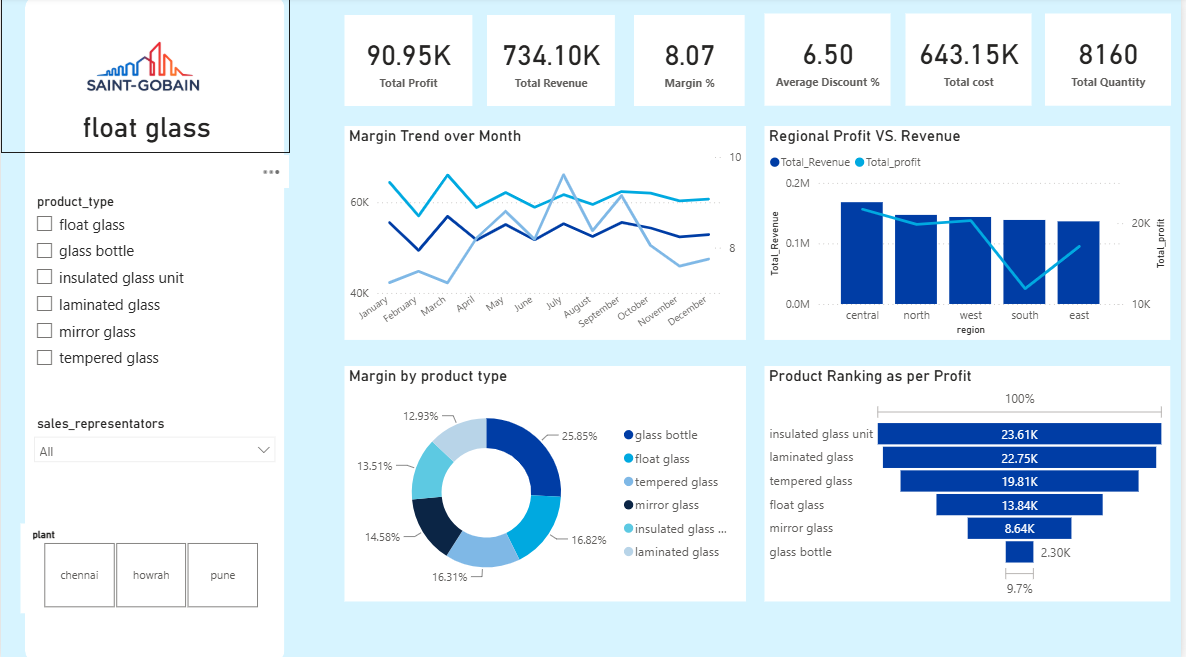

This screenshot's page, from the dashboard's own definition file:
{"tool":"powerbi","page":{"name":"Executive Overview","canvas":[1280,720],"ordinal":1},"visuals":[{"type":"shape","box":[26,0,281.4,720.6],"z":0},{"type":"image","box":[0,0,313.9,169.2],"z":1000},{"type":"card","fields":{"Values":["public order.Total_profit"]},"box":[371.7,20,138.3,98.3],"z":2000},{"type":"card","fields":{"Values":["public order.Total_Price"]},"box":[526.7,20,138.3,98.3],"z":3000},{"type":"card","fields":{"Values":["public order.Margin %"]},"box":[686.7,20,120,98.3],"z":4000},{"type":"card","fields":{"Values":["public order.Average_discount %"]},"box":[828.3,18.3,136.7,100],"z":5000},{"type":"lineChart","title":"Margin Trend over Month","fields":{"Category":["public order.order_date.Variation.Date Hierarchy.Month"],"Y":["public order.Total_cost","public order.Total_Revenue"],"Y2":["public order.Margin %"]},"box":[371.7,140,435,231.7],"z":6000},{"type":"donutChart","title":"Margin  by product type","fields":{"Category":["public order.product_type"],"Y":["public order.Margin %"]},"box":[371.7,400,435,255],"z":7000},{"type":"lineClusteredColumnComboChart","title":"Regional Profit VS. Revenue","fields":{"Category":["public order.region"],"Y":["public order.Total_Revenue"],"Y2":["public order.Total_profit"]},"box":[828.3,140,440,231.7],"z":8000},{"type":"funnel","title":"Product Ranking as per Profit","fields":{"Category":["public order.product_type"],"Y":["public order.Total_profit"]},"box":[828,400,440,255],"z":9000},{"type":"card","fields":{"Values":["public order.Total_cost"]},"box":[980,18.3,136.7,100],"z":10000},{"type":"card","fields":{"Values":["public order.Total_Quantity"]},"box":[1131.7,18.3,136.7,100],"z":11000},{"type":"slicer","fields":{"Values":["public order.product_type"]},"box":[26,208.2,276.5,224.5],"z":12000},{"type":"card","fields":{"Values":["Min(public order.product_type)"]},"box":[58.6,69.9,198.4,138.3],"z":13000},{"type":"slicer","fields":{"Values":["public order.plant"]},"box":[21.1,570.9,281.4,97.6],"z":14000},{"type":"slicer","fields":{"Values":["public order.sales_representators"]},"box":[26,448.9,281.4,78.1],"z":15000}]}

Visuals, with their boxes in screenshot pixels (x1, y1, x2, y2), scaled from the page's 1280x720 canvas onto the 1186x657 screenshot:
shape: rect(24, 0, 285, 656)
image: rect(0, 0, 291, 154)
card - public order.Total_profit: rect(344, 18, 473, 108)
card - public order.Total_Price: rect(488, 18, 616, 108)
card - public order.Margin %: rect(636, 18, 747, 108)
card - public order.Average_discount %: rect(767, 17, 894, 108)
"Margin Trend over Month" lineChart: rect(344, 128, 747, 339)
"Margin  by product type" donutChart: rect(344, 365, 747, 598)
"Regional Profit VS. Revenue" lineClusteredColumnComboChart: rect(767, 128, 1175, 339)
"Product Ranking as per Profit" funnel: rect(767, 365, 1175, 598)
card - public order.Total_cost: rect(908, 17, 1035, 108)
card - public order.Total_Quantity: rect(1049, 17, 1175, 108)
slicer - public order.product_type: rect(24, 190, 280, 395)
card - Min(public order.product_type): rect(54, 64, 238, 190)
slicer - public order.plant: rect(20, 521, 280, 610)
slicer - public order.sales_representators: rect(24, 410, 285, 481)
